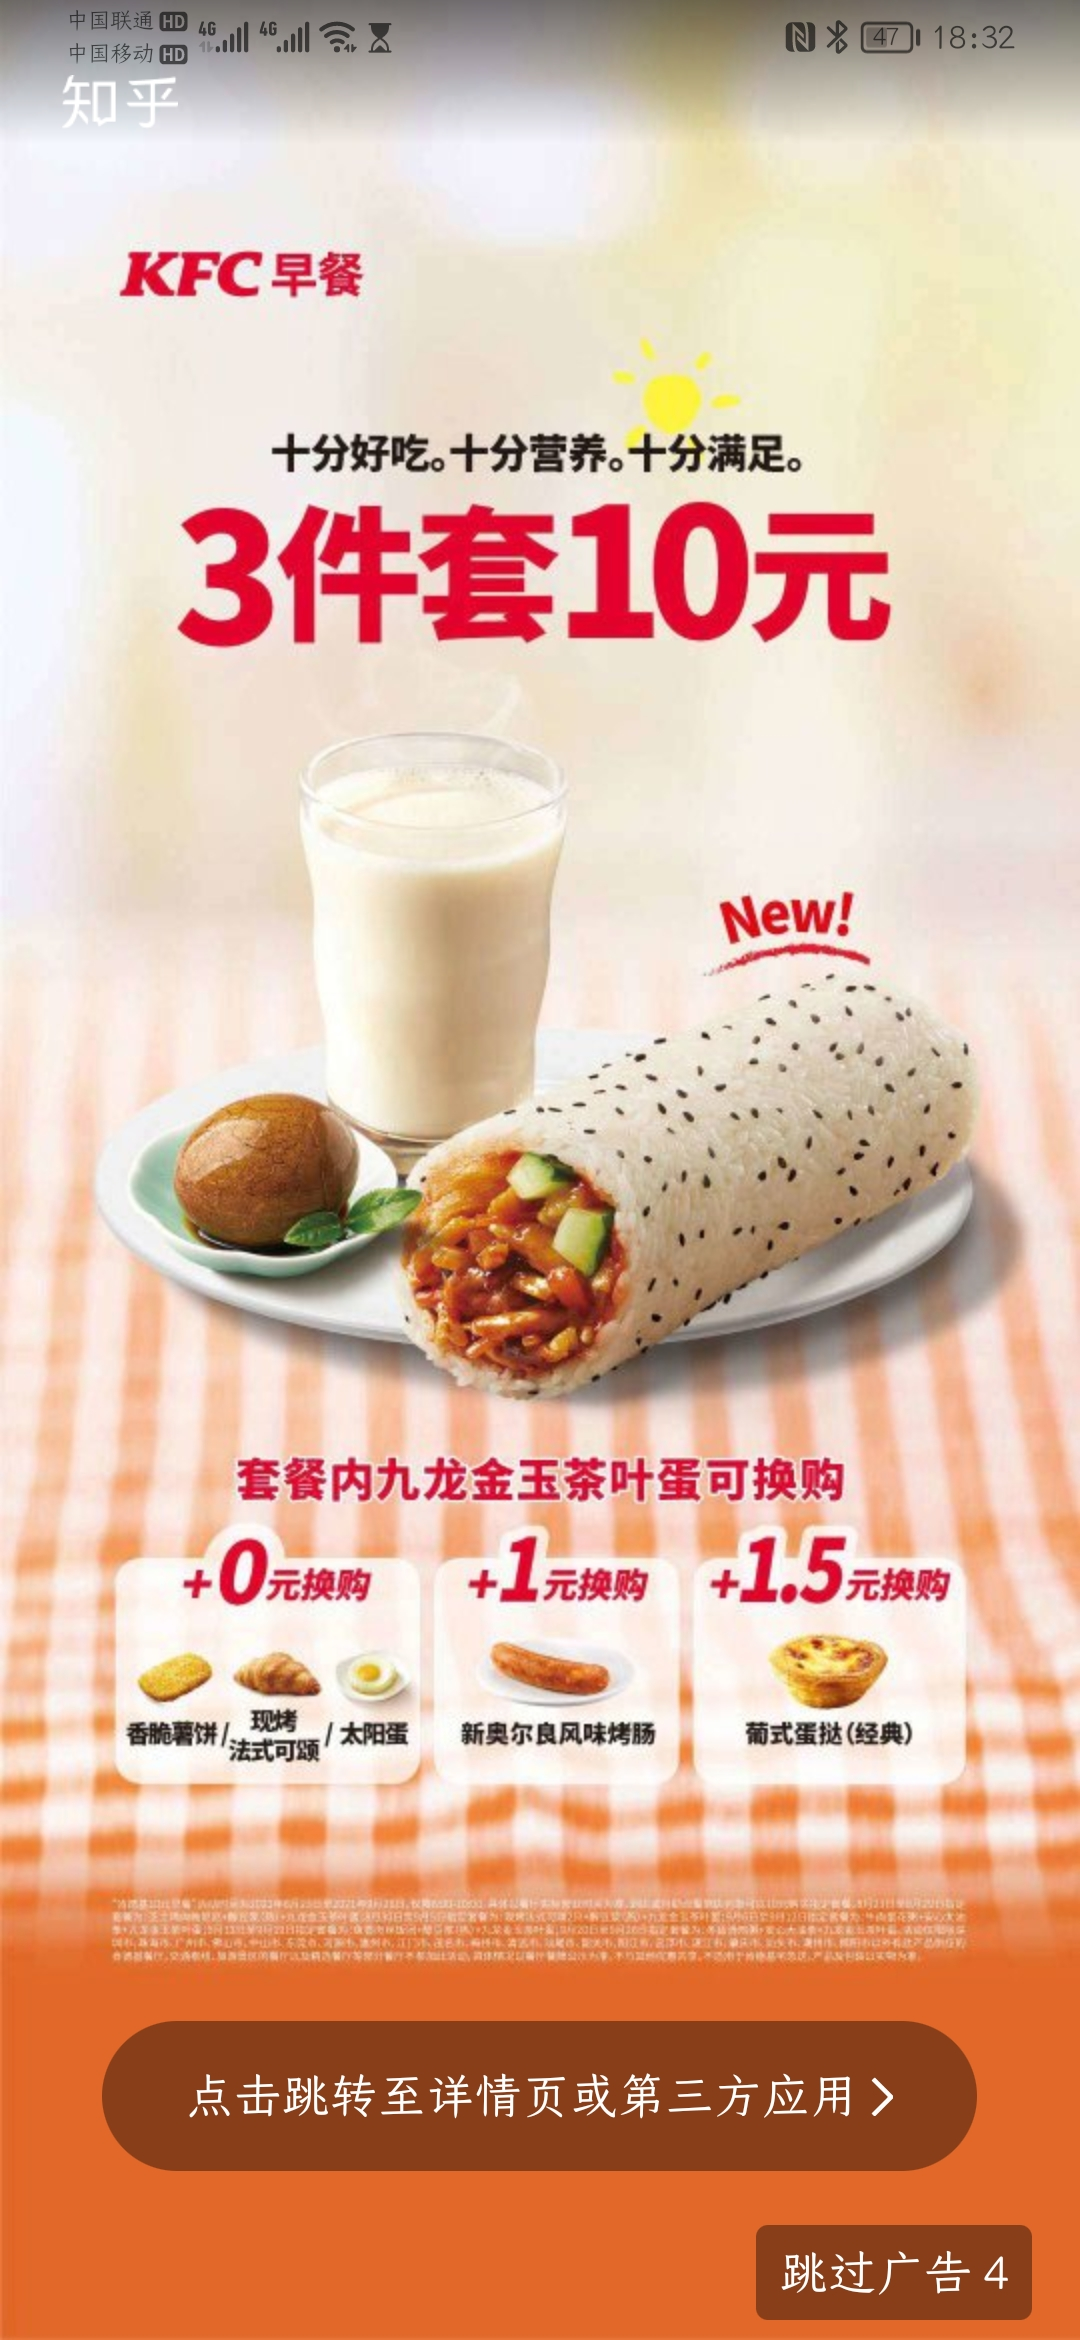skip: (762, 2230, 1020, 2313)
